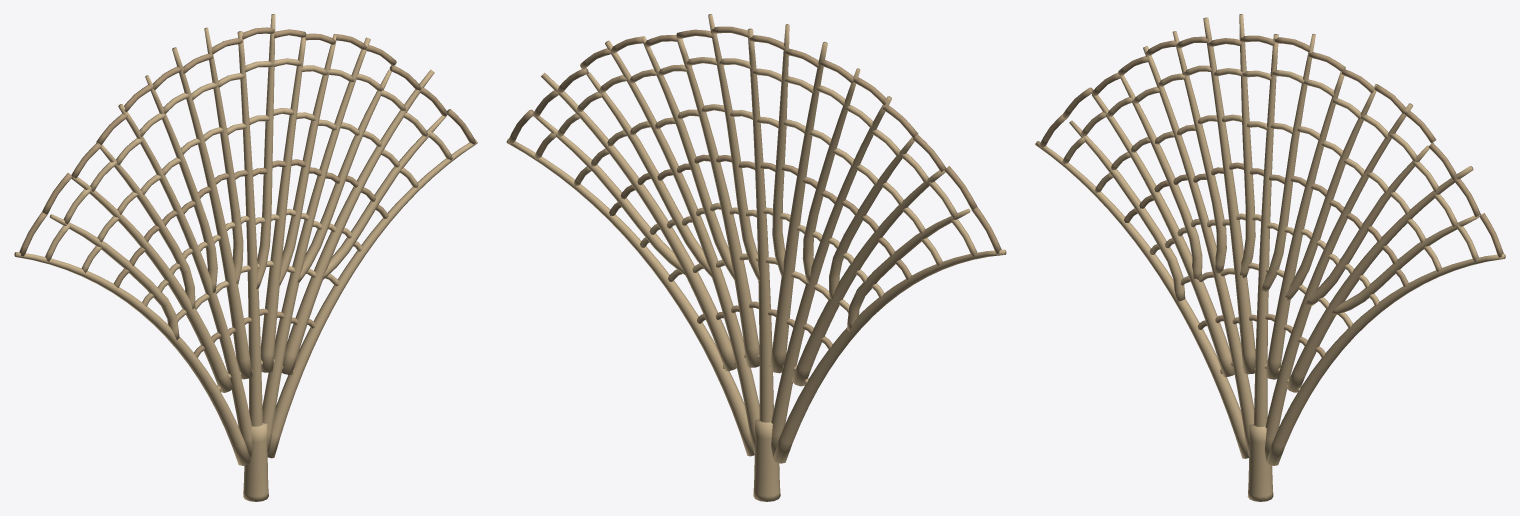
The model's file is fenestella.glb.
3 views of the same model, side by side, from view 1: azimuth 30°, elevation 25°; view 2: azimuth 150°, elevation 25°; view 3: azimuth 330°, elevation 25° (orthographic). The views are drawn at different scales.
Visible parts, largest first — view 1: branching-ribs-of-cupped-fan, short-crossbars-and-open-fenestrae; view 2: branching-ribs-of-cupped-fan, short-crossbars-and-open-fenestrae; view 3: branching-ribs-of-cupped-fan, short-crossbars-and-open-fenestrae.
Part boxes in pixels (box(x1,y1,x2,y2)): branching-ribs-of-cupped-fan: box(14, 14, 477, 501); short-crossbars-and-open-fenestrae: box(19, 27, 475, 391); branching-ribs-of-cupped-fan: box(506, 14, 1006, 501); short-crossbars-and-open-fenestrae: box(508, 26, 1001, 384); branching-ribs-of-cupped-fan: box(1035, 14, 1505, 501); short-crossbars-and-open-fenestrae: box(1039, 35, 1503, 392).
Size of the model in its own units: 0.1574 by 0.15 by 0.0159.
